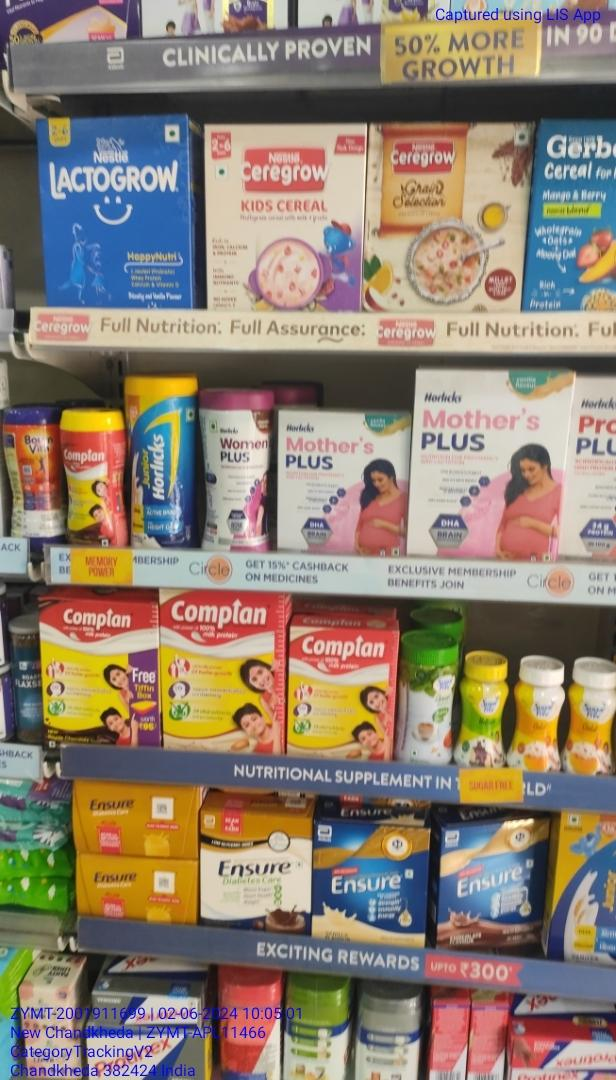COMPLAN_CHOCOLATE_200_GMS_JAR: (63, 410, 125, 553)
ENSURE_VANILLA_400_G_PACK: (314, 822, 425, 953)
HORLICKS_JUNIOR_VANILLA_500_GM_JAR: (131, 369, 202, 551)
